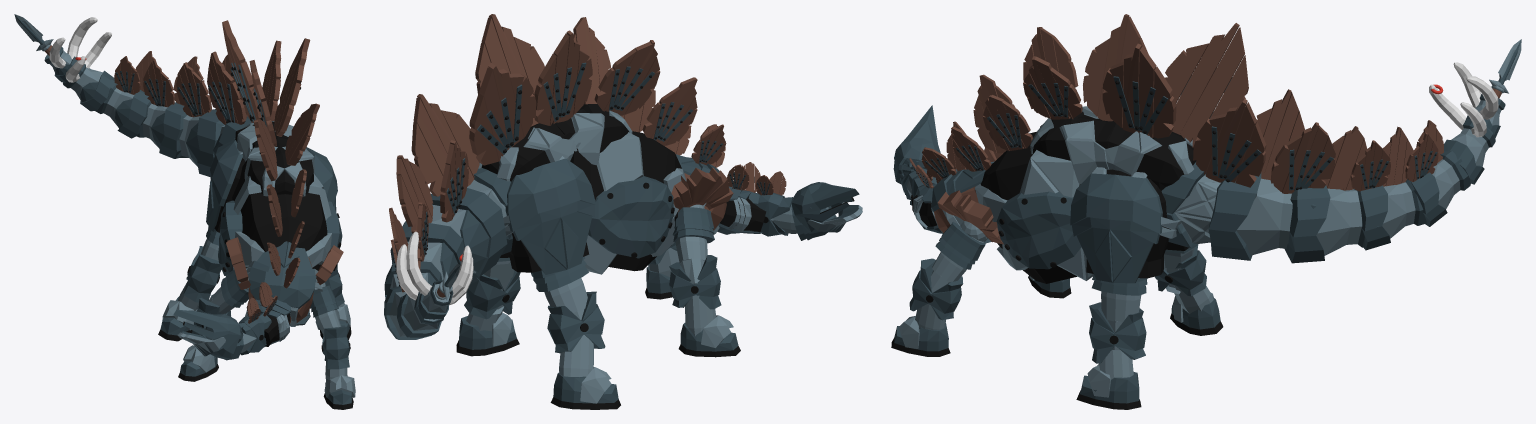
The picture shows the model from 3 angles, left to right: view 1: azimuth 30°, elevation 25°; view 2: azimuth 150°, elevation 25°; view 3: azimuth 270°, elevation 25°; orthographic projection. The views are drawn at different scales.
Parts seen in each view (by area): view 1: node_MeshObject-1219233088-PolyPaper23, node_MeshObject1092948992-PolyPaper20, node_MeshObject312541056-PolyPaper20, node_MeshObject1312545792-PolyPaper23, node_MeshObject1279651840-PolyPaper16, node_MeshObject1817386560-PolyPaper16; view 2: node_MeshObject1312545792-PolyPaper23, node_MeshObject312541056-PolyPaper20, node_MeshObject-1219233088-PolyPaper23, node_MeshObject1092948992-PolyPaper20, node_MeshObject1279651840-PolyPaper16, node_MeshObject1817386560-PolyPaper16; view 3: node_MeshObject1312545792-PolyPaper23, node_MeshObject312541056-PolyPaper20, node_MeshObject1092948992-PolyPaper20, node_MeshObject-1219233088-PolyPaper23, node_MeshObject1279651840-PolyPaper16, node_MeshObject1817386560-PolyPaper16.
Part boxes in pixels (x1,y1,x2,y2): node_MeshObject-1219233088-PolyPaper23: (44,47,350,381); node_MeshObject1092948992-PolyPaper20: (49,17,343,372); node_MeshObject312541056-PolyPaper20: (65,51,350,369); node_MeshObject1312545792-PolyPaper23: (176,20,319,217); node_MeshObject1279651840-PolyPaper16: (14,14,355,409); node_MeshObject1817386560-PolyPaper16: (50,50,351,355); node_MeshObject1312545792-PolyPaper23: (390,14,660,280); node_MeshObject312541056-PolyPaper20: (390,77,723,409); node_MeshObject-1219233088-PolyPaper23: (389,30,749,357); node_MeshObject1092948992-PolyPaper20: (384,124,773,353); node_MeshObject1279651840-PolyPaper16: (396,167,862,337); node_MeshObject1817386560-PolyPaper16: (384,122,828,356); node_MeshObject1312545792-PolyPaper23: (983,16,1378,263); node_MeshObject312541056-PolyPaper20: (909,74,1466,335); node_MeshObject1092948992-PolyPaper20: (912,62,1498,379); node_MeshObject-1219233088-PolyPaper23: (921,14,1505,397); node_MeshObject1279651840-PolyPaper16: (891,39,1521,356); node_MeshObject1817386560-PolyPaper16: (906,100,1501,409).
Size of the model in its own units: 0.6313 by 0.6873 by 1.13.
